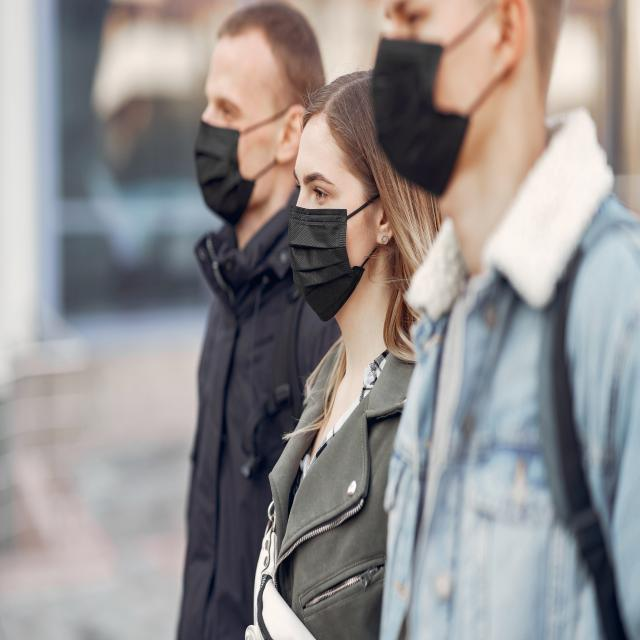adult: (181, 0, 351, 640), (256, 57, 438, 640)
